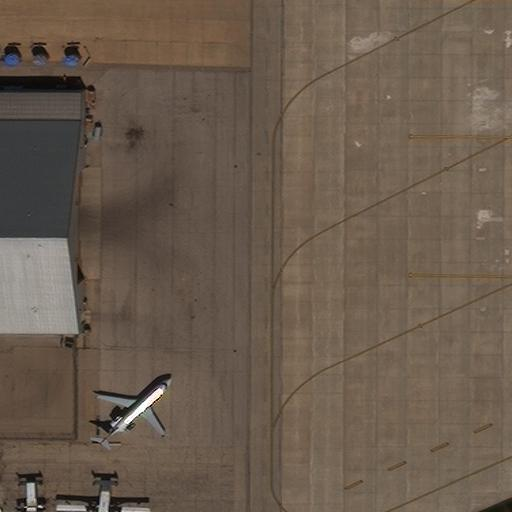Medium Civil Transport: (98, 377, 171, 444), (55, 481, 148, 512)
